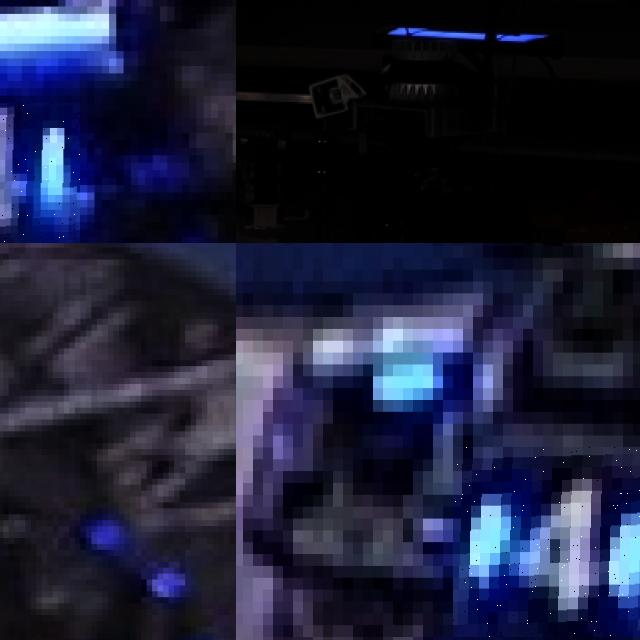B4: (453, 447, 640, 636), (0, 103, 80, 243)
